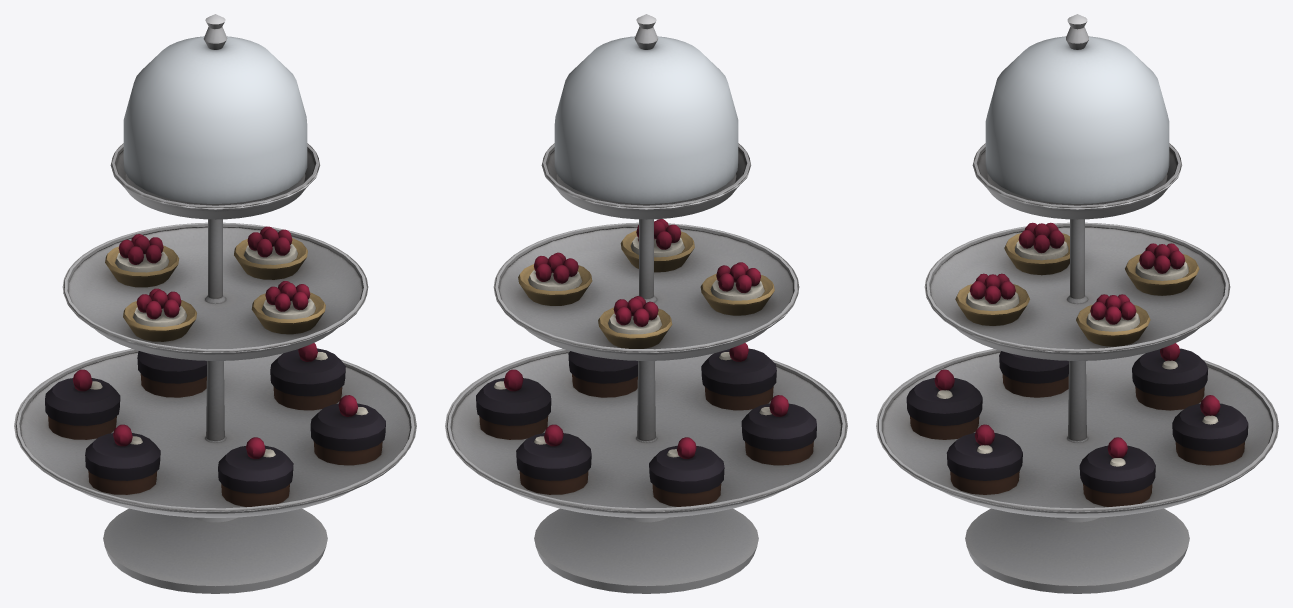
File: CakeStand.fbx
The picture shows the model from 3 angles, left to right: view 1: azimuth 30°, elevation 25°; view 2: azimuth 150°, elevation 25°; view 3: azimuth 270°, elevation 25°; orthographic projection.
Parts seen in each view (by area): view 1: CakeStand_Main, CakeStand_Glass; view 2: CakeStand_Main, CakeStand_Glass; view 3: CakeStand_Main, CakeStand_Glass.
Part boxes in pixels (bbox=[...]): CakeStand_Main: bbox=[14, 14, 416, 593]; CakeStand_Glass: bbox=[123, 36, 307, 203]; CakeStand_Main: bbox=[445, 14, 847, 593]; CakeStand_Glass: bbox=[554, 36, 738, 203]; CakeStand_Main: bbox=[876, 14, 1278, 593]; CakeStand_Glass: bbox=[985, 36, 1169, 203].
Bounding box in the file's own units: 118 × 173 × 118.
